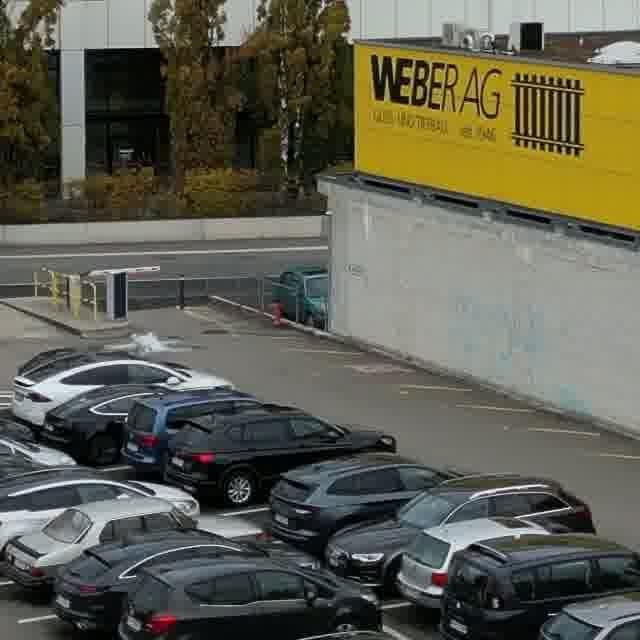Drohne: (104, 332, 195, 355)
